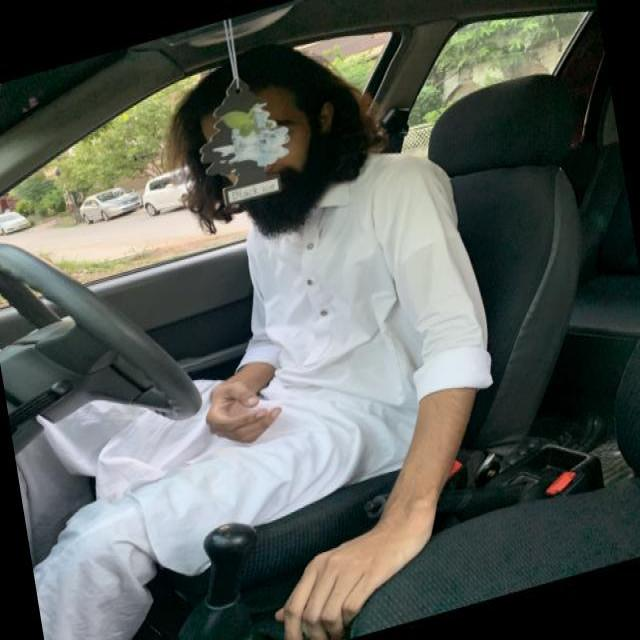no-seatbelt: (182, 250, 479, 445)
